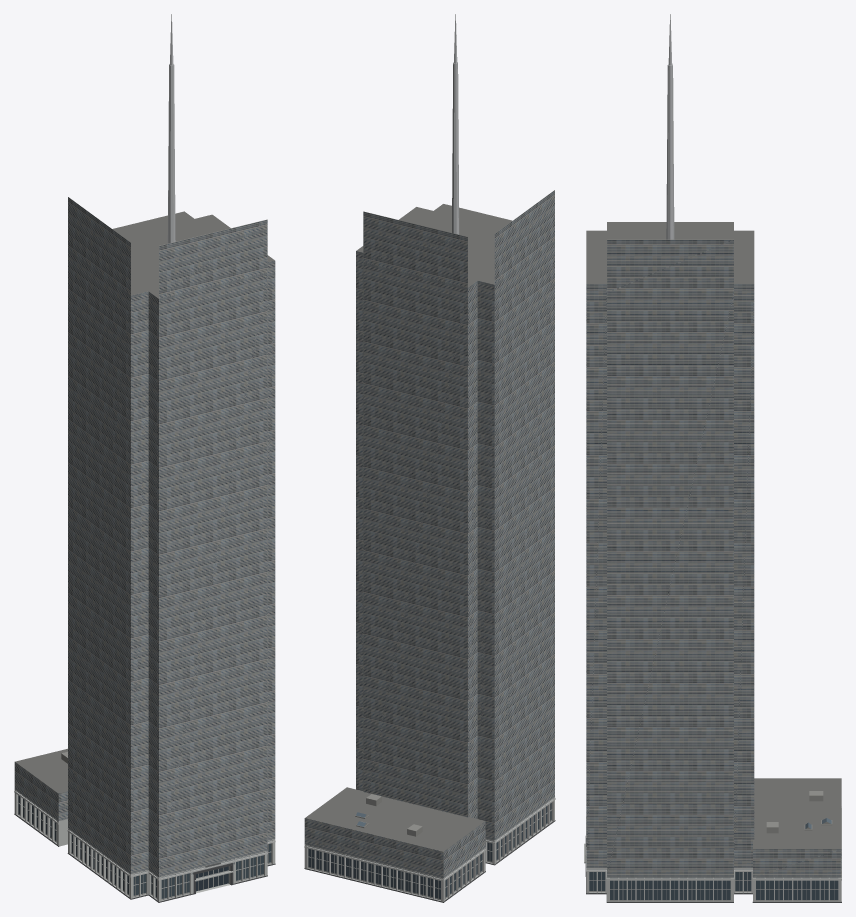
The model's file is new_york_times_building.glb.
The picture shows the model from 3 angles, left to right: view 1: azimuth 30°, elevation 25°; view 2: azimuth 150°, elevation 25°; view 3: azimuth 270°, elevation 25°; orthographic projection. The views are drawn at different scales.
Parts seen in each view (by area): view 1: new_york_times_building; view 2: new_york_times_building; view 3: new_york_times_building.
Boxes of the visible parts, x1=… form: new_york_times_building: x1=14, y1=14, x2=275, y2=902; new_york_times_building: x1=304, y1=14, x2=555, y2=902; new_york_times_building: x1=584, y1=14, x2=841, y2=902.
Bounding box in the file's own units: 57.24 × 319 × 87.36.
2 materials, 2 textured.
